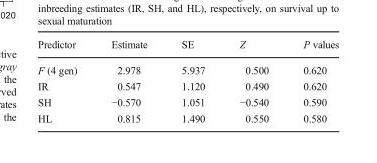table: (37, 37, 338, 123)
table column: (93, 37, 163, 123), (221, 37, 285, 123), (163, 37, 221, 123), (37, 37, 93, 123), (285, 37, 338, 123)
table column header: (37, 37, 338, 56)
table row: (37, 56, 338, 77), (37, 37, 338, 56), (37, 92, 338, 110), (37, 77, 338, 92), (37, 110, 338, 123)
